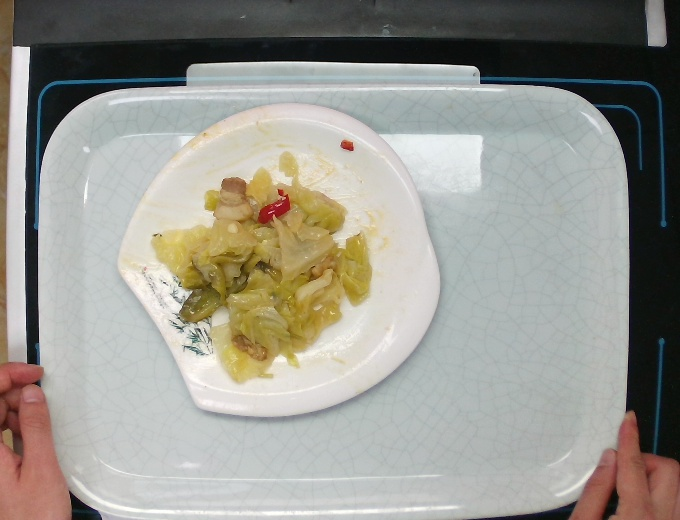JYsf-Mian_Pan: (117, 95, 440, 425)
